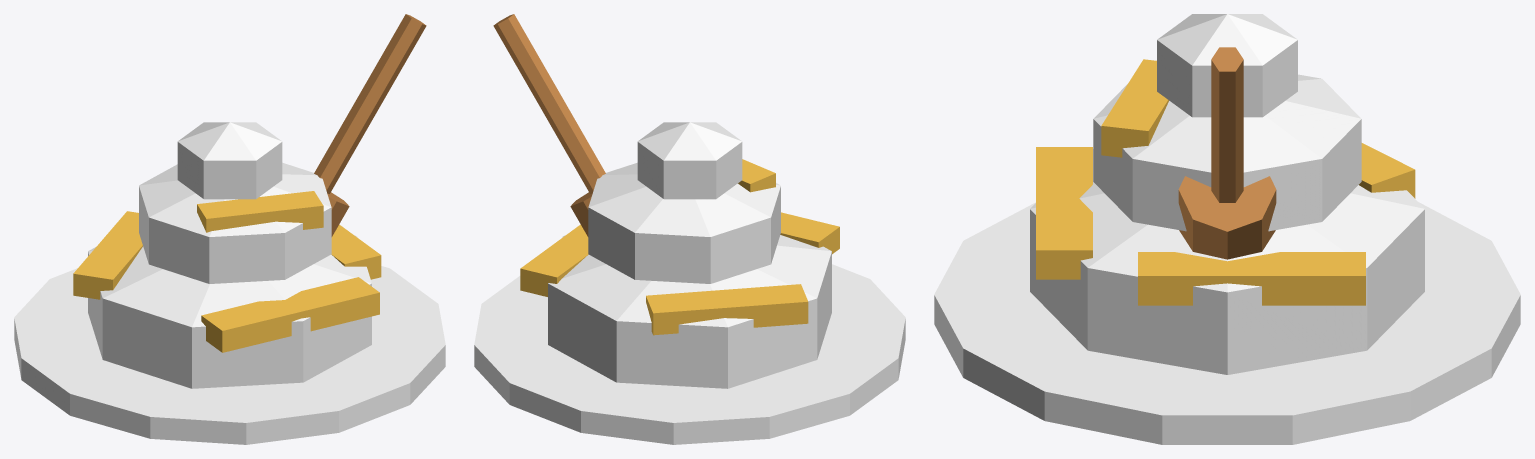
Rendered from CatCafe_Item_HoneyCream.glb.
3 renders of one model, left to right at view 1: azimuth 30°, elevation 25°; view 2: azimuth 150°, elevation 25°; view 3: azimuth 270°, elevation 25°, orthographic. The views are drawn at different scales.
Parts seen in each view (by area): view 1: CatCafe_Item_HoneyCream; view 2: CatCafe_Item_HoneyCream; view 3: CatCafe_Item_HoneyCream.
Boxes of the visible parts, <box> form: CatCafe_Item_HoneyCream: <box>14,14,445,444</box>; CatCafe_Item_HoneyCream: <box>474,14,905,444</box>; CatCafe_Item_HoneyCream: <box>934,14,1520,444</box>.
Size of the model in its own units: 0.7199 by 0.5458 by 0.72.
Materials: 1 (1 with a texture image).
